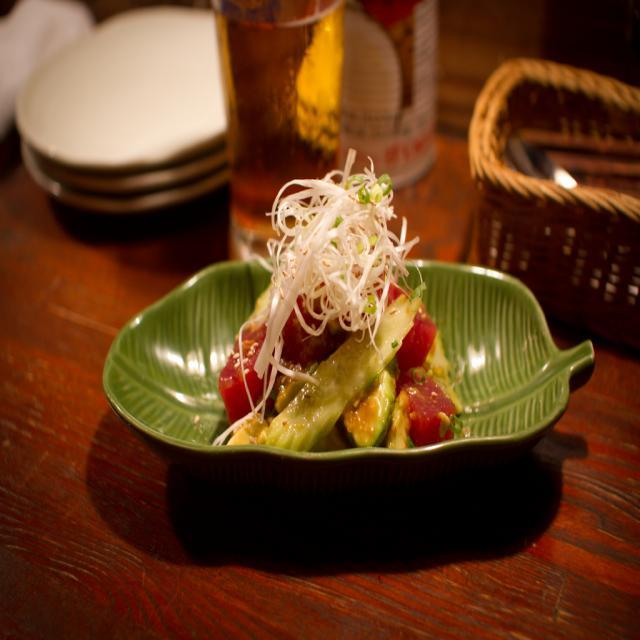ceramic plate: (26, 17, 256, 212)
